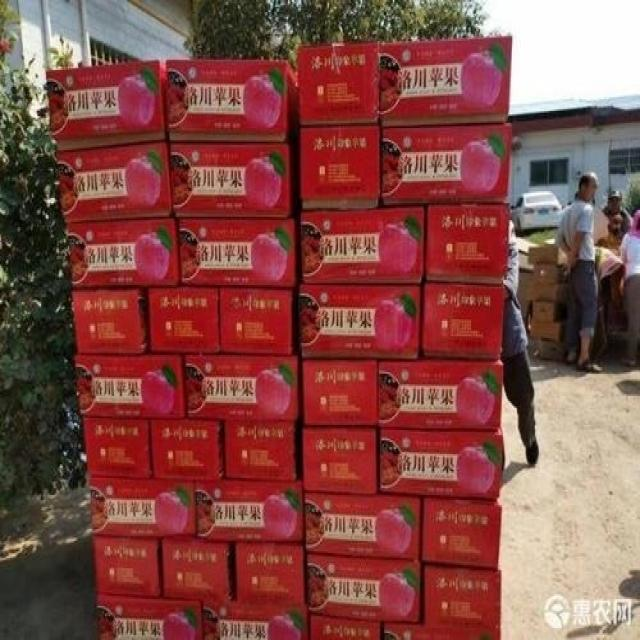box: (379, 35, 512, 128), (166, 60, 299, 144), (45, 61, 167, 150), (379, 123, 511, 205), (299, 276, 419, 360), (169, 141, 303, 216), (179, 207, 302, 288), (301, 205, 425, 284), (56, 139, 172, 222), (185, 343, 303, 421), (378, 355, 503, 428), (379, 427, 506, 498), (67, 213, 180, 288), (74, 345, 187, 418), (303, 553, 420, 623), (304, 492, 421, 561), (195, 470, 304, 543), (89, 472, 196, 538), (419, 275, 504, 357), (299, 123, 380, 208), (424, 203, 510, 282), (296, 44, 378, 125), (218, 282, 300, 354), (420, 498, 501, 569), (418, 562, 501, 627), (224, 414, 304, 481), (71, 288, 150, 354), (302, 359, 378, 427), (303, 427, 380, 494), (150, 412, 225, 480), (147, 283, 219, 353), (96, 592, 204, 638), (201, 593, 310, 638), (162, 537, 236, 601), (93, 533, 163, 597), (83, 417, 153, 478), (236, 543, 304, 604), (382, 622, 501, 638), (309, 612, 382, 638)
